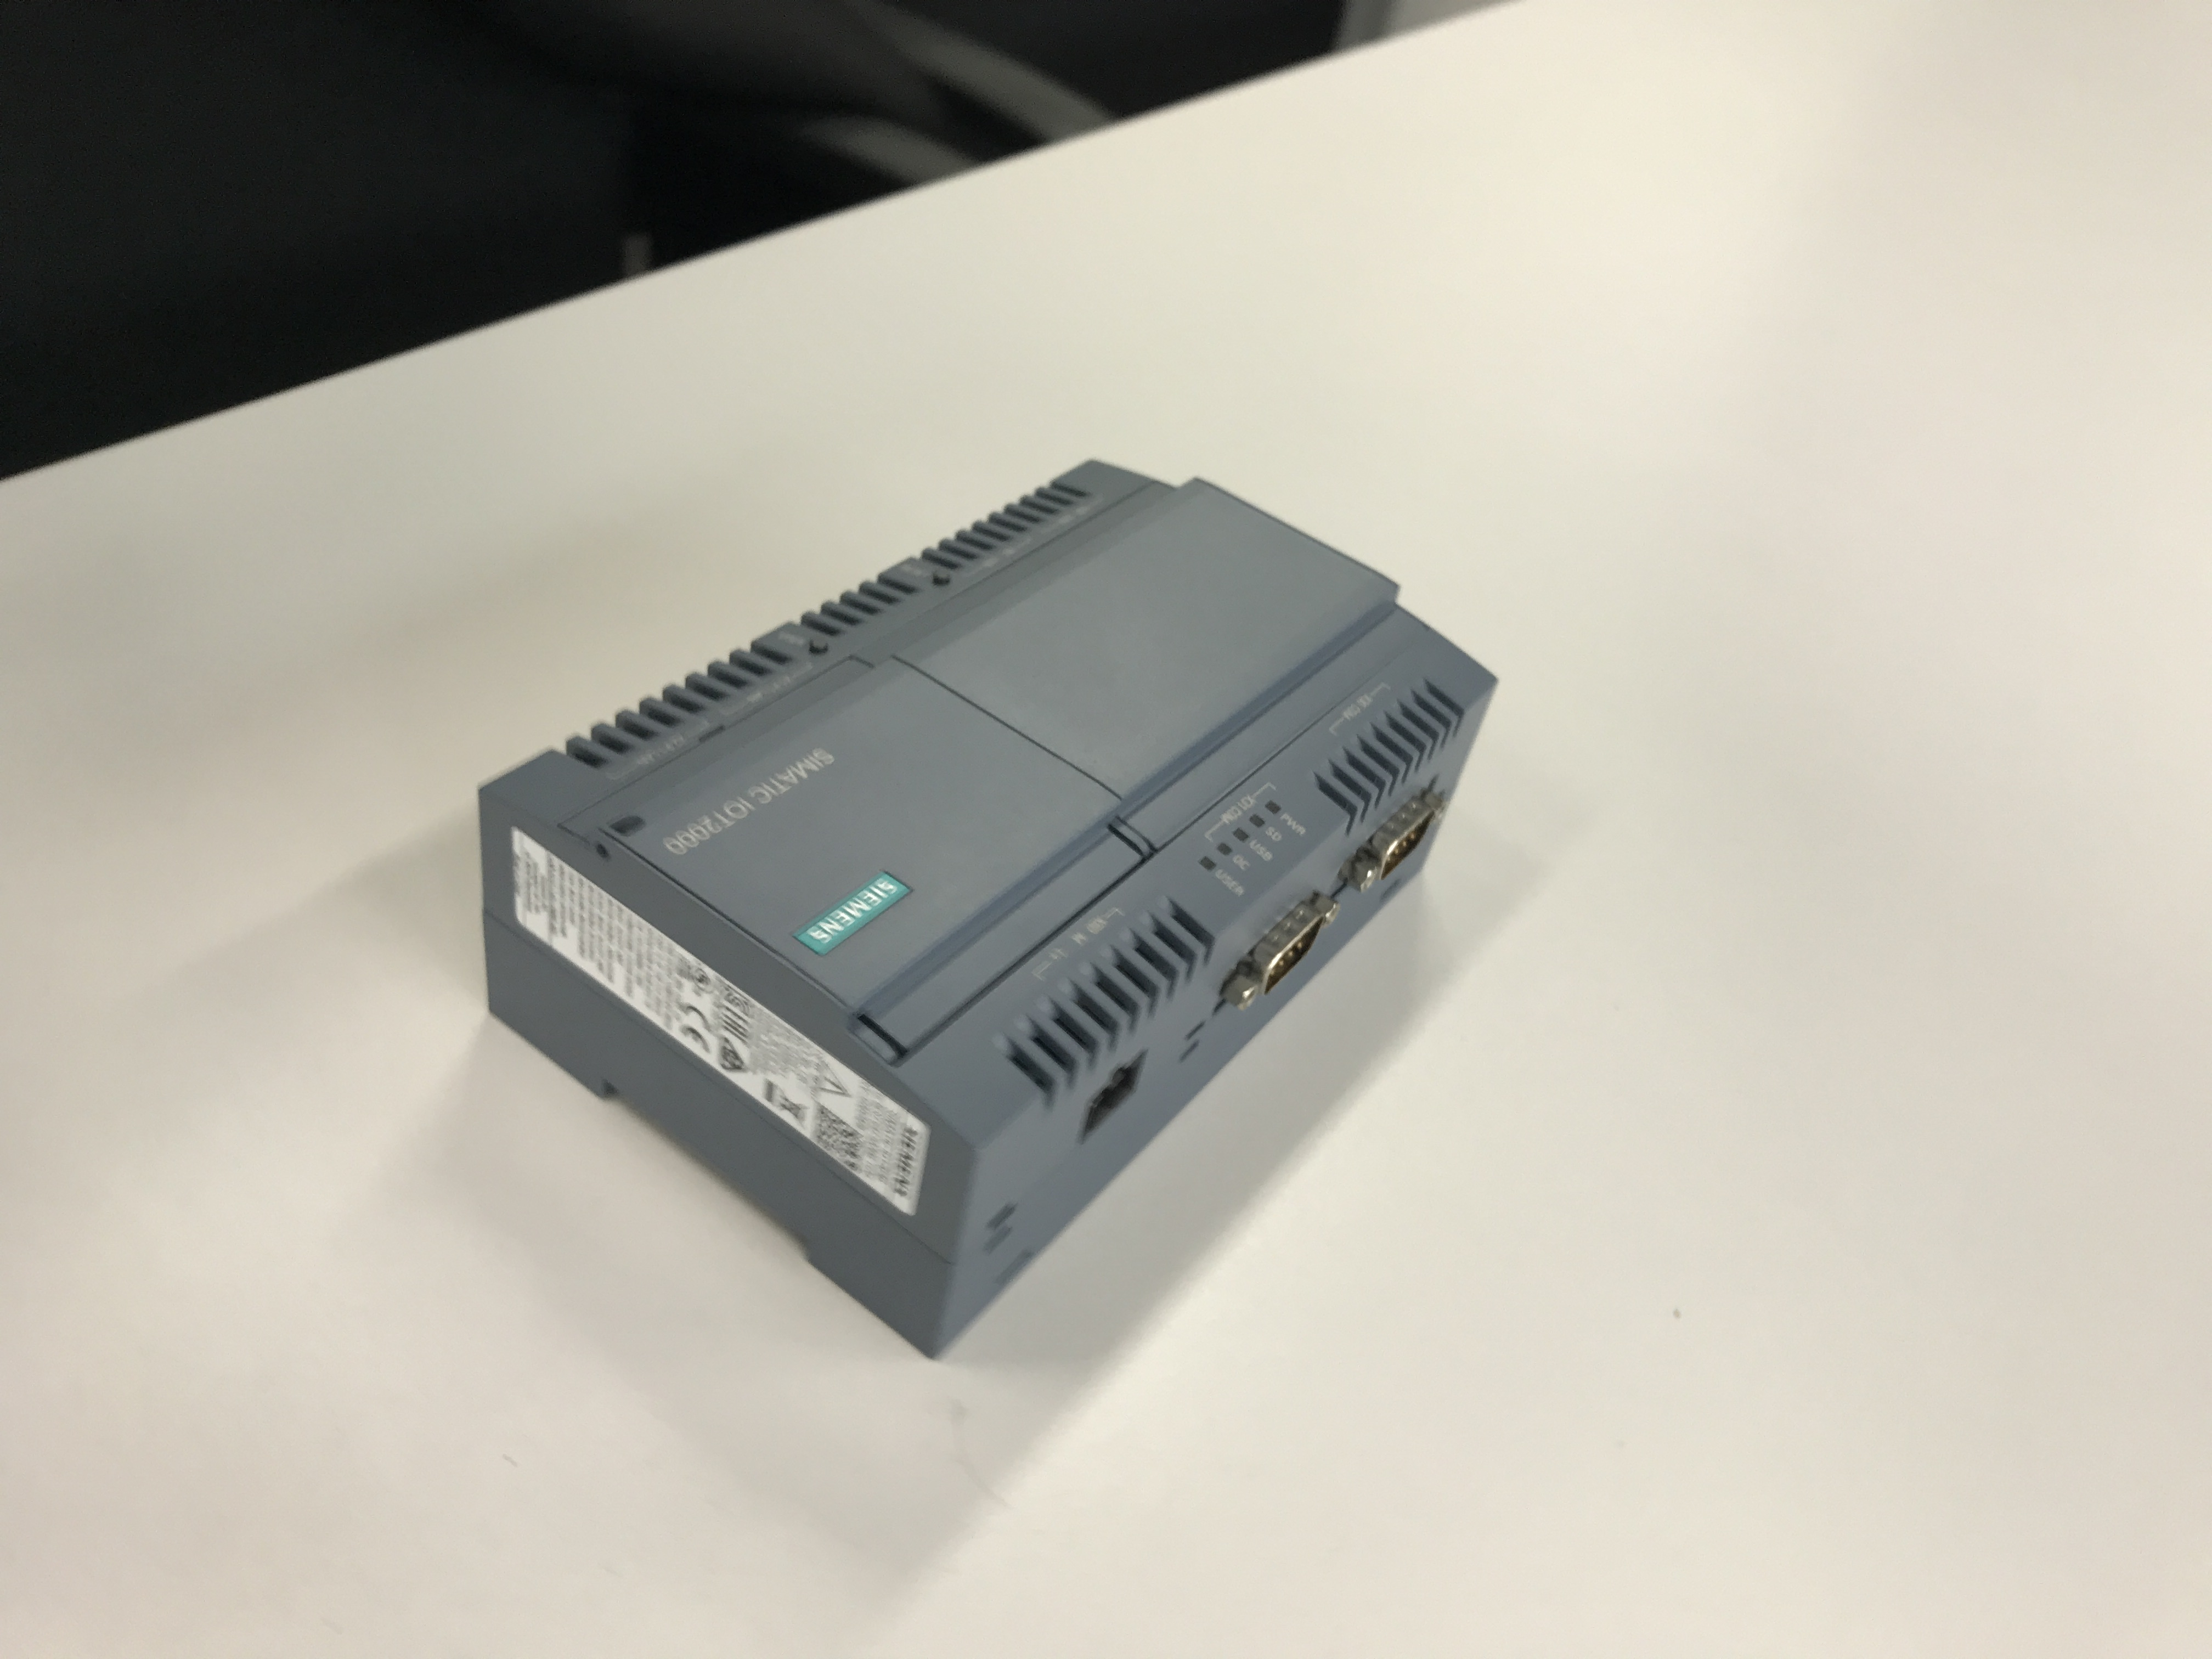device: (475, 457, 1501, 1361)
